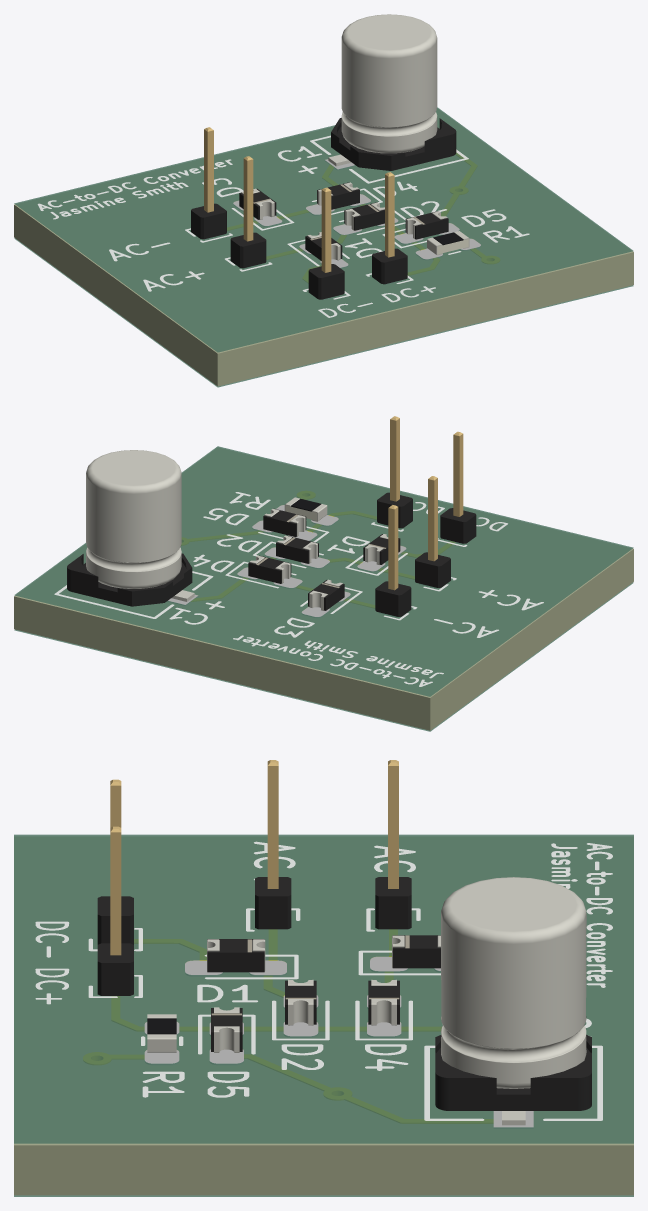
File: ACtoDC3d.glb
The picture shows the model from 3 angles, top to bottom: view 1: azimuth 30°, elevation 25°; view 2: azimuth 150°, elevation 25°; view 3: azimuth 270°, elevation 25°; orthographic projection. The views are drawn at different scales.
Parts seen in each view (by area): view 1: =>[0:1:1:12], =>[0:1:1:10], C1, =>[0:1:1:9], J4, J1, J3, J2, =>[0:1:1:7], =>[0:1:1:6], =>[0:1:1:11], D5 (+5 smaller); view 2: =>[0:1:1:12], =>[0:1:1:10], C1, =>[0:1:1:9], J4, J2, J1, =>[0:1:1:7], J3, =>[0:1:1:11], =>[0:1:1:6], D4 (+5 smaller); view 3: =>[0:1:1:12], =>[0:1:1:10], C1, =>[0:1:1:9], =>[0:1:1:7], =>[0:1:1:6], J1, J3, J2, D1, J4, D3 (+5 smaller).
Boxes of the visible parts, x1,y1,x2,y2 form: =>[0:1:1:12]: [14, 109, 633, 386]; =>[0:1:1:10]: [14, 107, 633, 352]; C1: [328, 14, 456, 170]; =>[0:1:1:9]: [37, 135, 529, 317]; J4: [308, 187, 344, 299]; J1: [230, 156, 266, 268]; J3: [372, 172, 407, 284]; J2: [191, 127, 226, 239]; =>[0:1:1:7]: [205, 159, 480, 299]; =>[0:1:1:6]: [227, 153, 499, 282]; =>[0:1:1:11]: [14, 238, 633, 387]; D5: [405, 211, 448, 239]; =>[0:1:1:12]: [14, 448, 633, 730]; =>[0:1:1:10]: [14, 446, 633, 696]; C1: [67, 450, 194, 606]; =>[0:1:1:9]: [54, 492, 543, 686]; J4: [440, 431, 476, 543]; J2: [375, 505, 411, 616]; J1: [415, 476, 450, 587]; =>[0:1:1:7]: [168, 505, 460, 617]; J3: [377, 416, 412, 528]; =>[0:1:1:11]: [14, 582, 633, 731]; =>[0:1:1:6]: [181, 491, 454, 607]; D4: [248, 555, 291, 583]; =>[0:1:1:12]: [14, 837, 633, 1195]; =>[0:1:1:10]: [14, 834, 633, 1143]; C1: [435, 877, 591, 1125]; =>[0:1:1:9]: [35, 841, 612, 1120]; =>[0:1:1:7]: [144, 957, 533, 1128]; =>[0:1:1:6]: [83, 930, 492, 1123]; J1: [255, 760, 291, 929]; J3: [97, 826, 133, 995]; J2: [375, 760, 411, 929]; D1: [207, 939, 265, 972]; J4: [97, 779, 133, 944]; D3: [392, 935, 440, 968].
Size of the model in its own units: 0.0201 by 0.0084 by 0.017.
